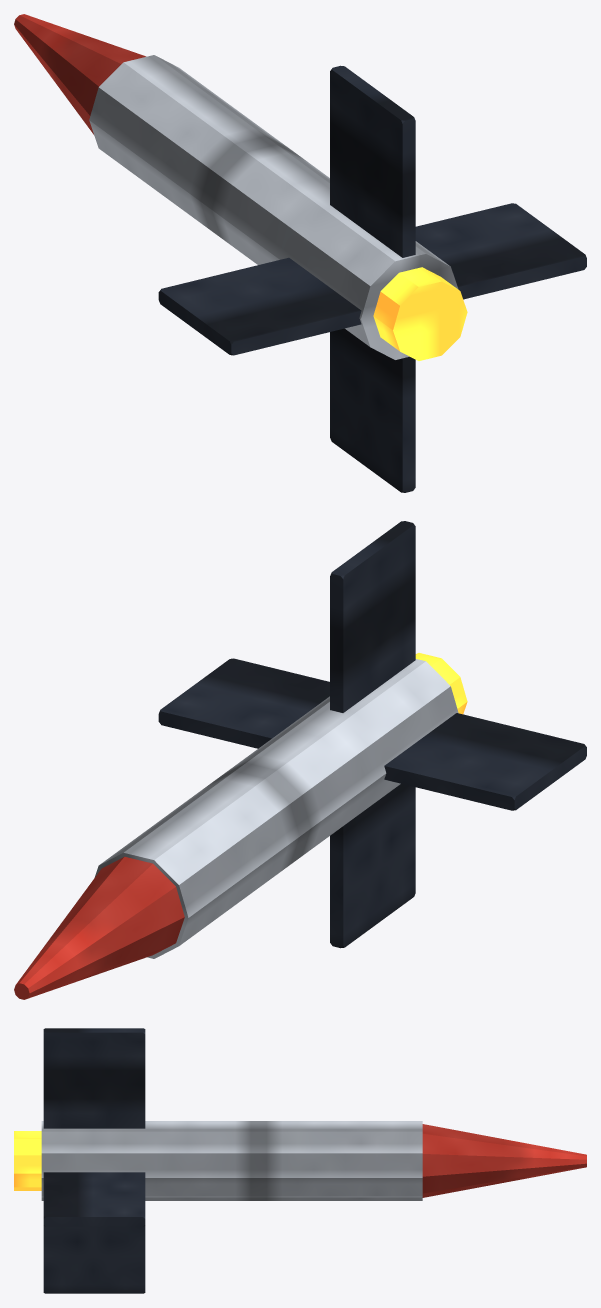
File: proj_missile.glb
The picture shows the model from 3 angles, top to bottom: view 1: azimuth 30°, elevation 25°; view 2: azimuth 150°, elevation 25°; view 3: azimuth 270°, elevation 25°; orthographic projection. The views are drawn at different scales.
Parts seen in each view (by area): view 1: proj_missile; view 2: proj_missile; view 3: proj_missile.
Part boxes in pixels (left/top/right/bottom): proj_missile: left=14, top=14, right=586, bottom=492; proj_missile: left=14, top=521, right=586, bottom=999; proj_missile: left=14, top=1028, right=586, bottom=1293.
Size of the model in its own units: 0.68 by 0.68 by 1.35.
1 material, 1 textured.
